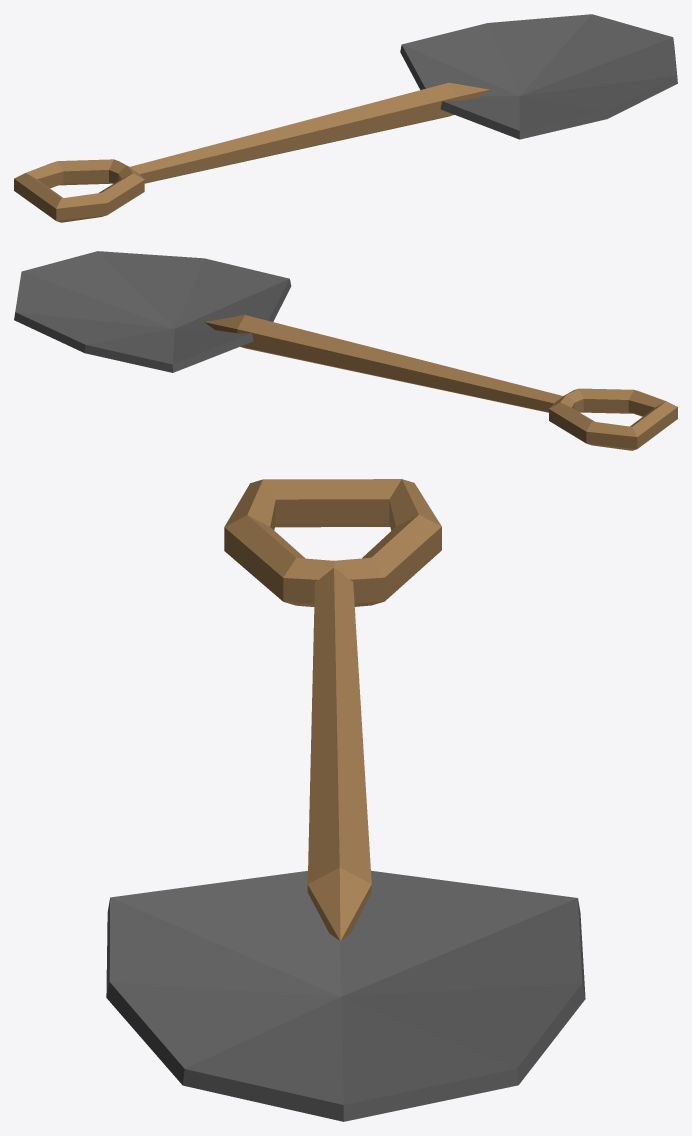
File: shovel_01.fbx
3 renders of one model, top to bottom at view 1: azimuth 30°, elevation 25°; view 2: azimuth 150°, elevation 25°; view 3: azimuth 270°, elevation 25°, orthographic. The views are drawn at different scales.
Visible parts, largest first — view 1: shovel_01; view 2: shovel_01; view 3: shovel_01.
Part boxes in pixels (box(x1,y1,x2,y2)): shovel_01: box(14, 14, 677, 222); shovel_01: box(14, 251, 677, 450); shovel_01: box(106, 479, 585, 1121).
Size of the model in its own units: 166 by 9.66 by 54.28.
